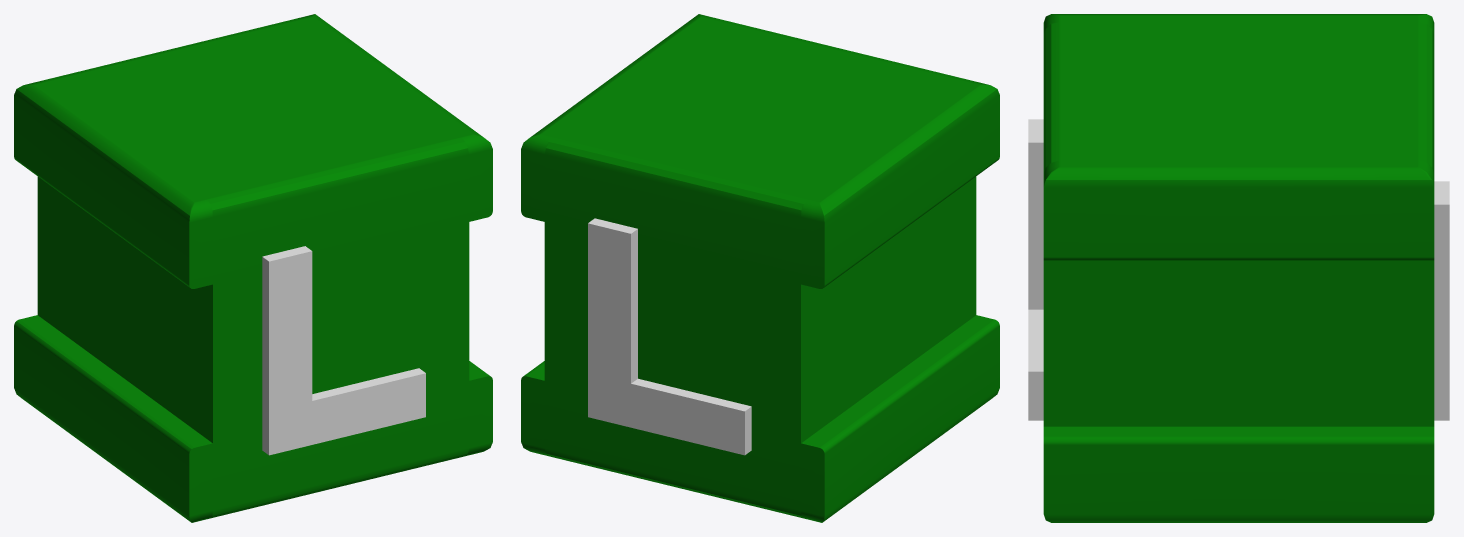
File: LBlock.fbx
The picture shows the model from 3 angles, left to right: view 1: azimuth 30°, elevation 25°; view 2: azimuth 150°, elevation 25°; view 3: azimuth 270°, elevation 25°; orthographic projection. The views are drawn at different scales.
Parts seen in each view (by area): view 1: LBlock, svgMesh1; view 2: LBlock, svgMesh2; view 3: LBlock, svgMesh1, svgMesh2.
Part boxes in pixels (x1,y1,x2,y2): LBlock: (14, 14, 492, 522); svgMesh1: (262, 246, 425, 455); LBlock: (521, 14, 999, 522); svgMesh2: (588, 218, 751, 455); LBlock: (1043, 14, 1434, 522); svgMesh1: (1028, 119, 1043, 420); svgMesh2: (1434, 181, 1449, 420).
Size of the model in its own units: 5 by 5 by 5.4.
